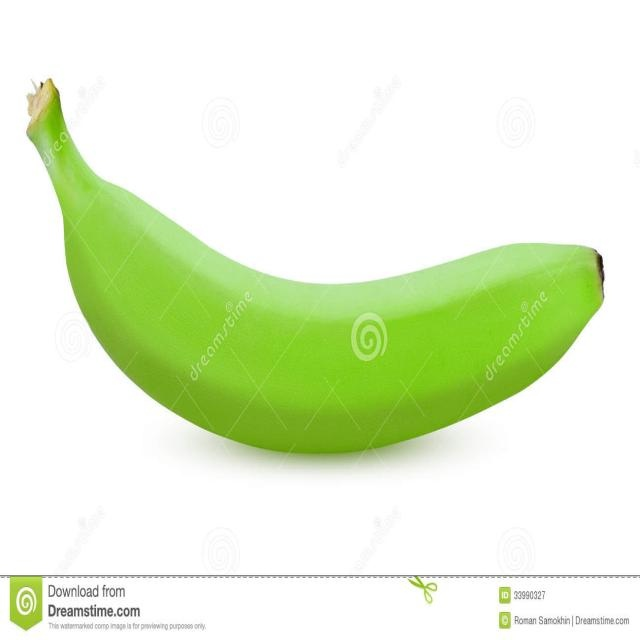agrume: (23, 69, 607, 461)
